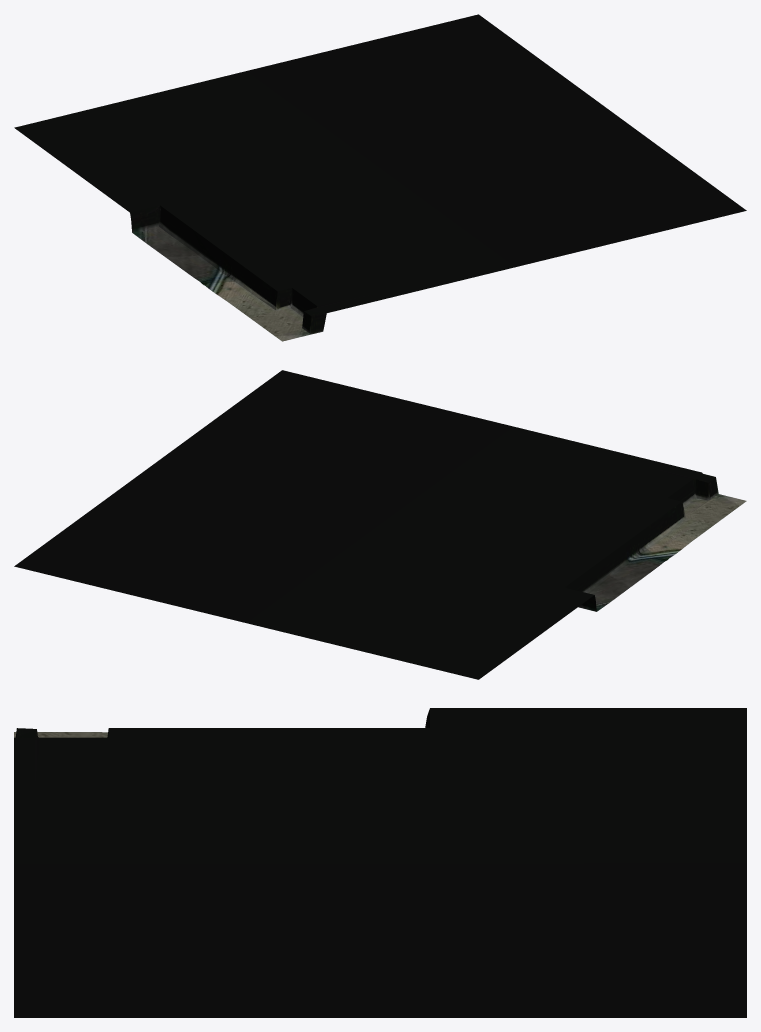
Rendered from map_10_258_433.dae.
3 renders of one model, top to bottom at view 1: azimuth 30°, elevation 25°; view 2: azimuth 150°, elevation 25°; view 3: azimuth 270°, elevation 25°, orthographic. The views are drawn at different scales.
Visible parts, largest first — view 1: Ter0; view 2: Ter0; view 3: Ter0.
Boxes of the visible parts, box(x1,y1,x2,y2) form: Ter0: box(14, 14, 746, 341); Ter0: box(14, 370, 746, 679); Ter0: box(14, 708, 746, 1017).
Size of the model in its own units: 2044 by 2044 by 79.07.
Materials: 4 (4 with a texture image).
